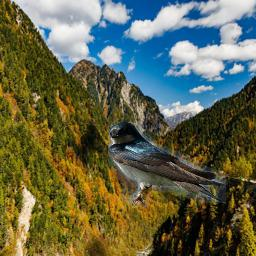Swallow: (108, 122, 226, 208)
